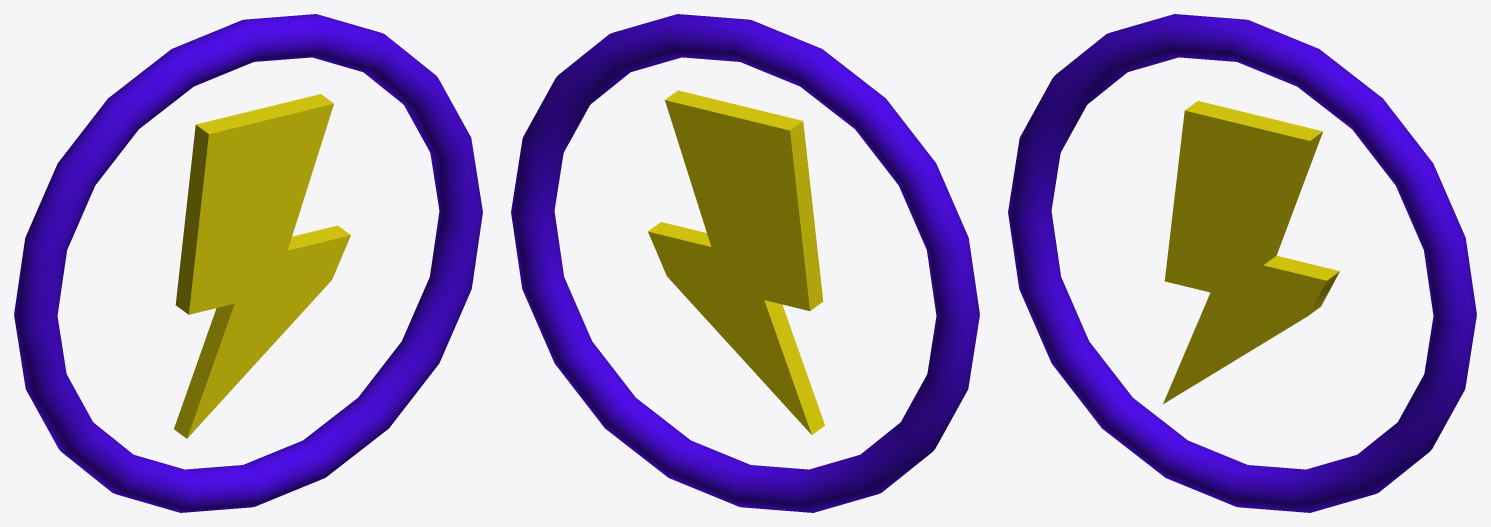
The model's file is power_up_lightning_MESH.fbx.
The picture shows the model from 3 angles, left to right: view 1: azimuth 30°, elevation 25°; view 2: azimuth 150°, elevation 25°; view 3: azimuth 330°, elevation 25°; orthographic projection.
Parts seen in each view (by area): view 1: pTorus1, pPlane1; view 2: pTorus1, pPlane1; view 3: pTorus1, pPlane1.
Part boxes in pixels (bbox=[...]): pTorus1: bbox=[14, 14, 482, 512]; pPlane1: bbox=[174, 94, 350, 438]; pTorus1: bbox=[511, 14, 979, 512]; pPlane1: bbox=[648, 90, 824, 434]; pTorus1: bbox=[1008, 14, 1476, 512]; pPlane1: bbox=[1163, 101, 1339, 403].
Size of the model in its own units: 196 by 16 by 196.
